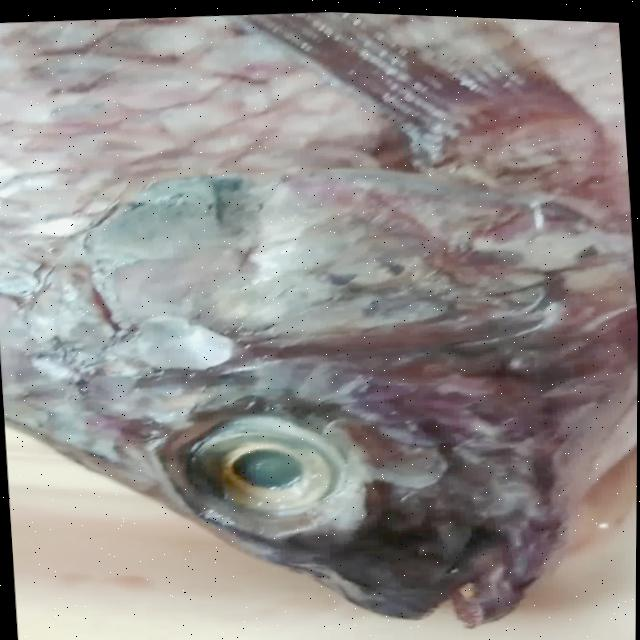Non-Fresh: (0, 0, 612, 424), (155, 395, 387, 550)
